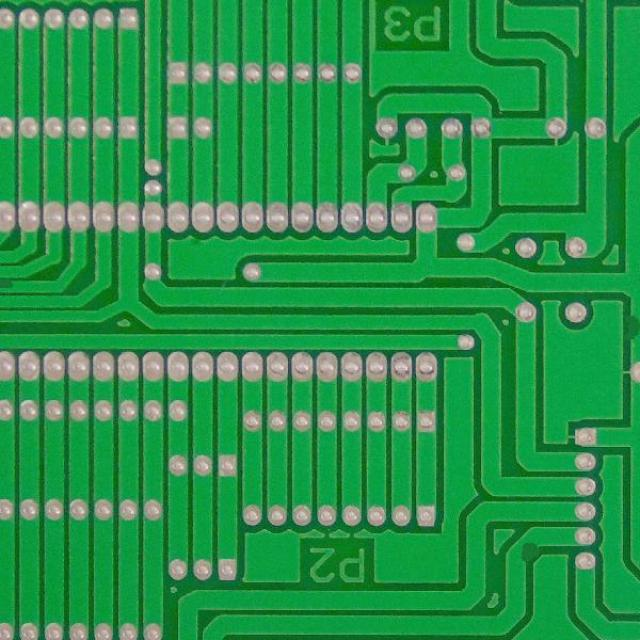MouseBite: (516, 538, 544, 564), (625, 311, 640, 344), (0, 278, 18, 292)
